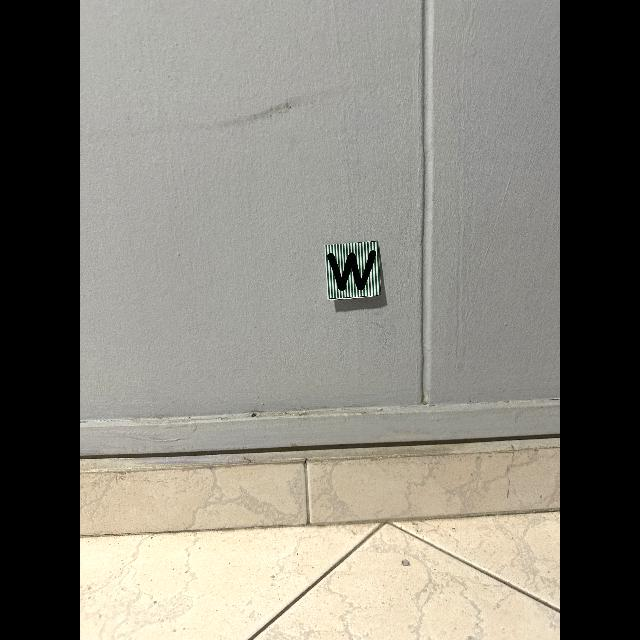W: (327, 249, 378, 291)
